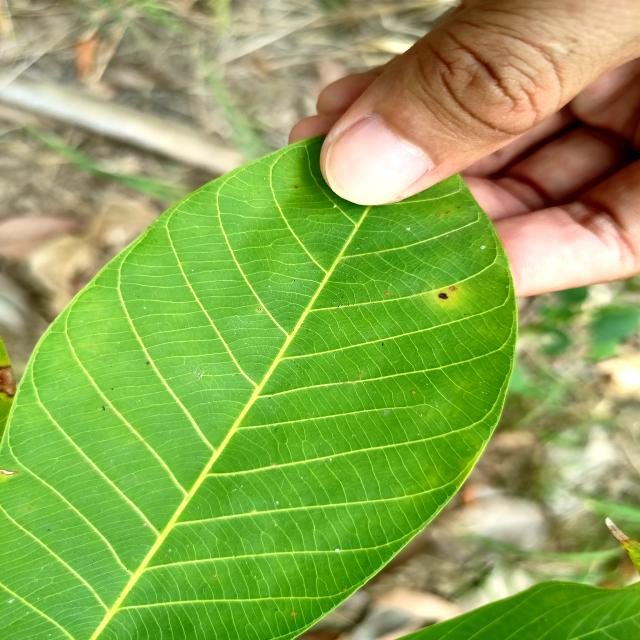Colletotrichum: (438, 293, 448, 299), (448, 286, 454, 290), (258, 308, 261, 310)
